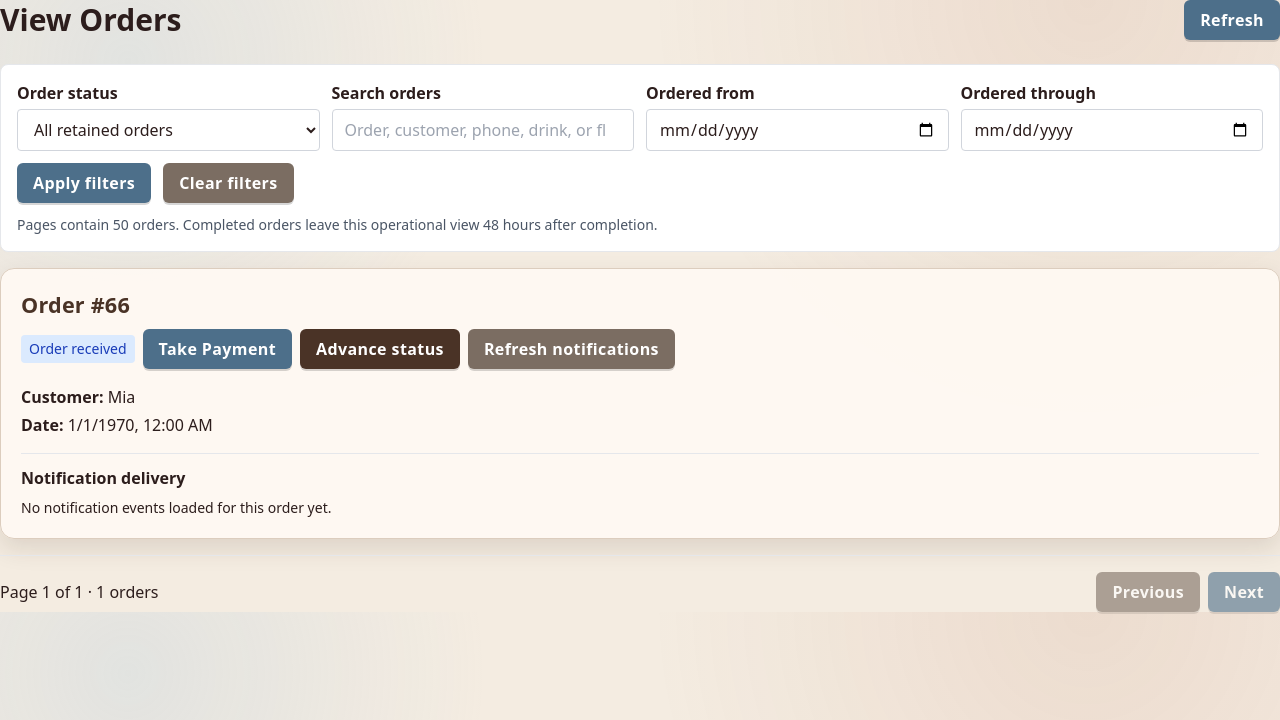
provider-neutral in-person Card payments › a confirmed failure permits a new attempt and an immediate paid response updates the order
This screenshot has width=1280, height=720.
What coordinates should you click on to do the following:
click the button "Take Payment"
I would click on:
 (217, 349)
Its box is [143,329,292,369].
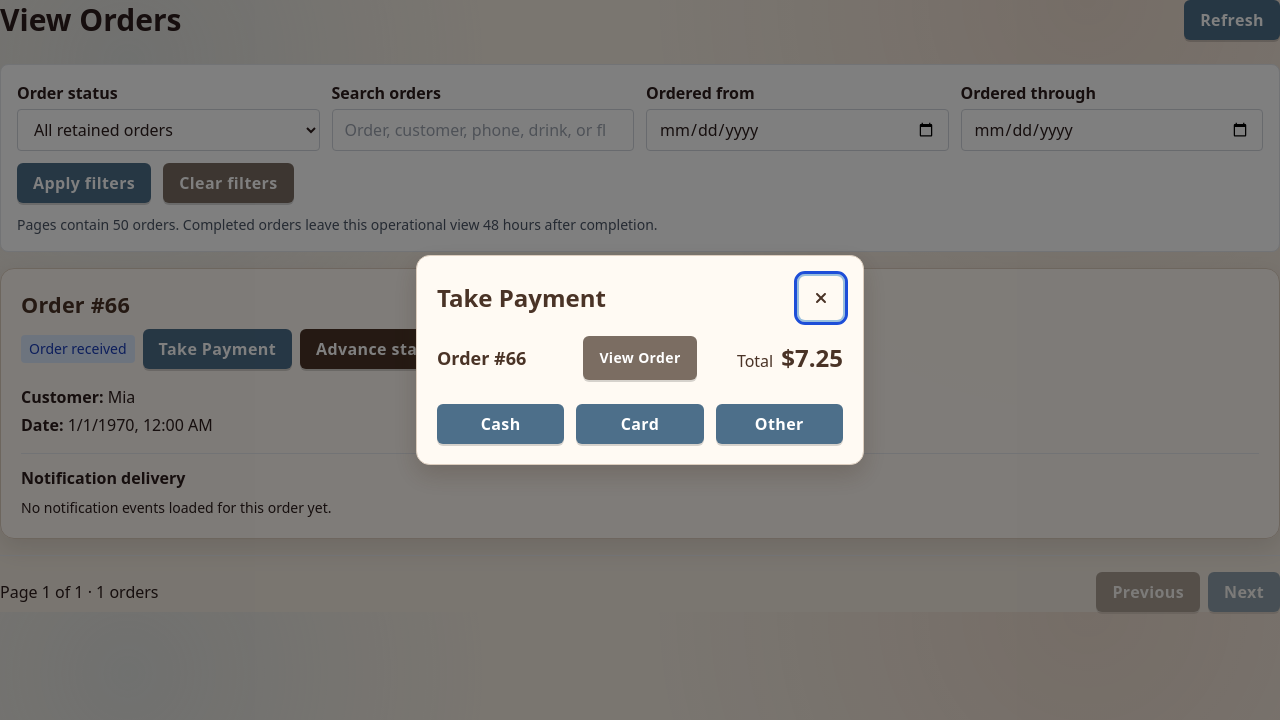
What coordinates should you click on to do the following:
click the button "Card"
I would click on:
 (640, 424)
Its box is [576,404,704,444].
Wait 2000 ms
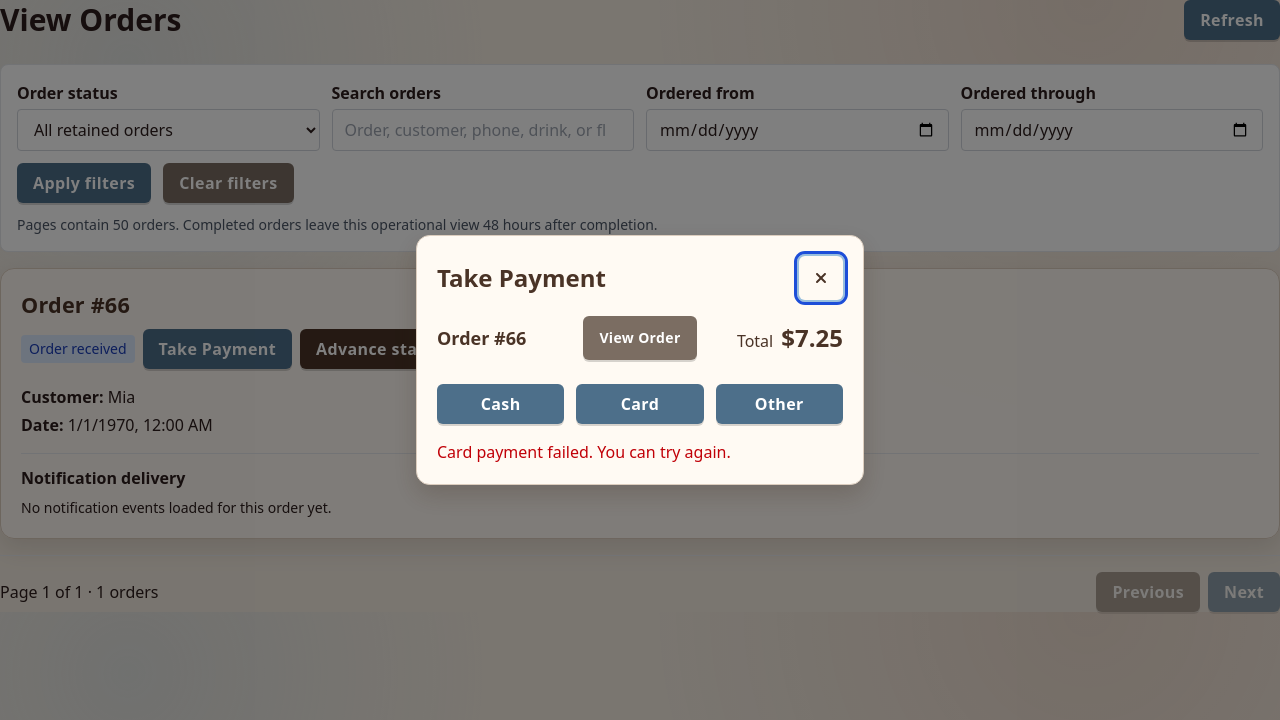
Expected: the text "Paid ·" is not shown
Expected: the button "Card" is enabled
Expected: the message reads "Card payment failed. You can try again.", [437,441,731,463]
What coordinates should you click on to do the following:
click the button "Card"
I would click on:
 (640, 404)
Its box is [576,384,704,424].
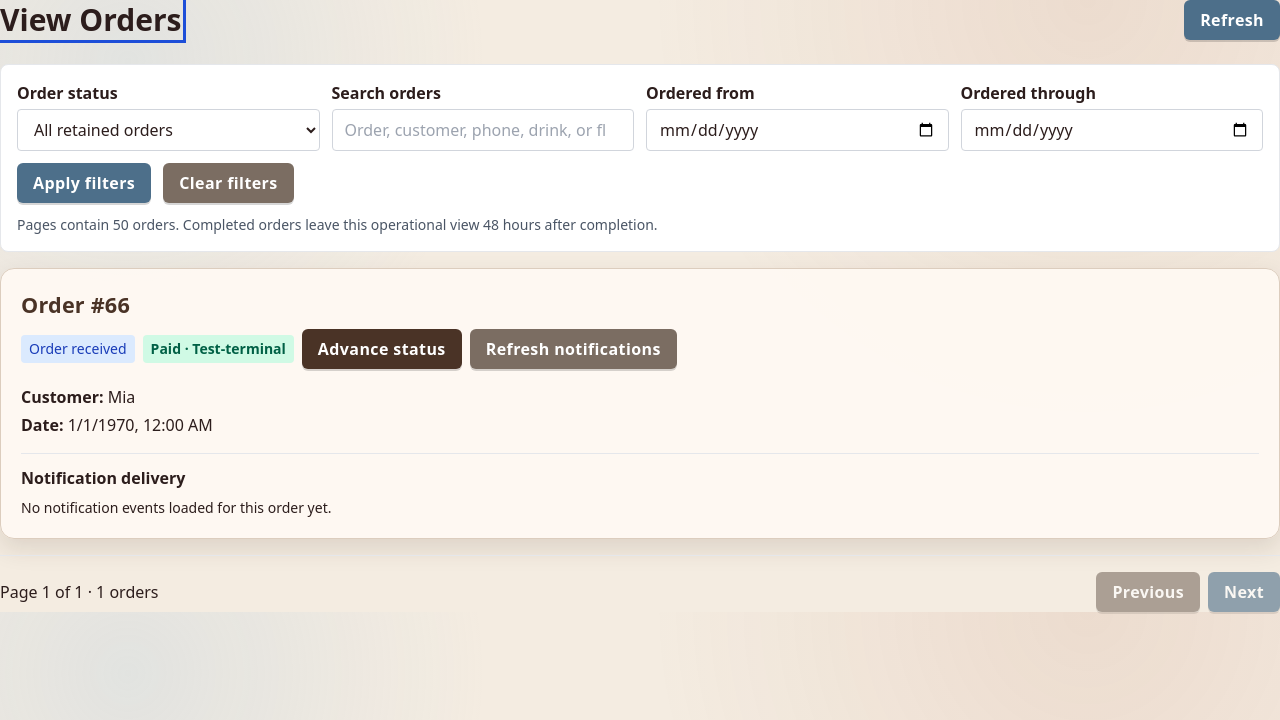
Expected: the text "Paid · Test-terminal" is shown, [143,335,294,363]
